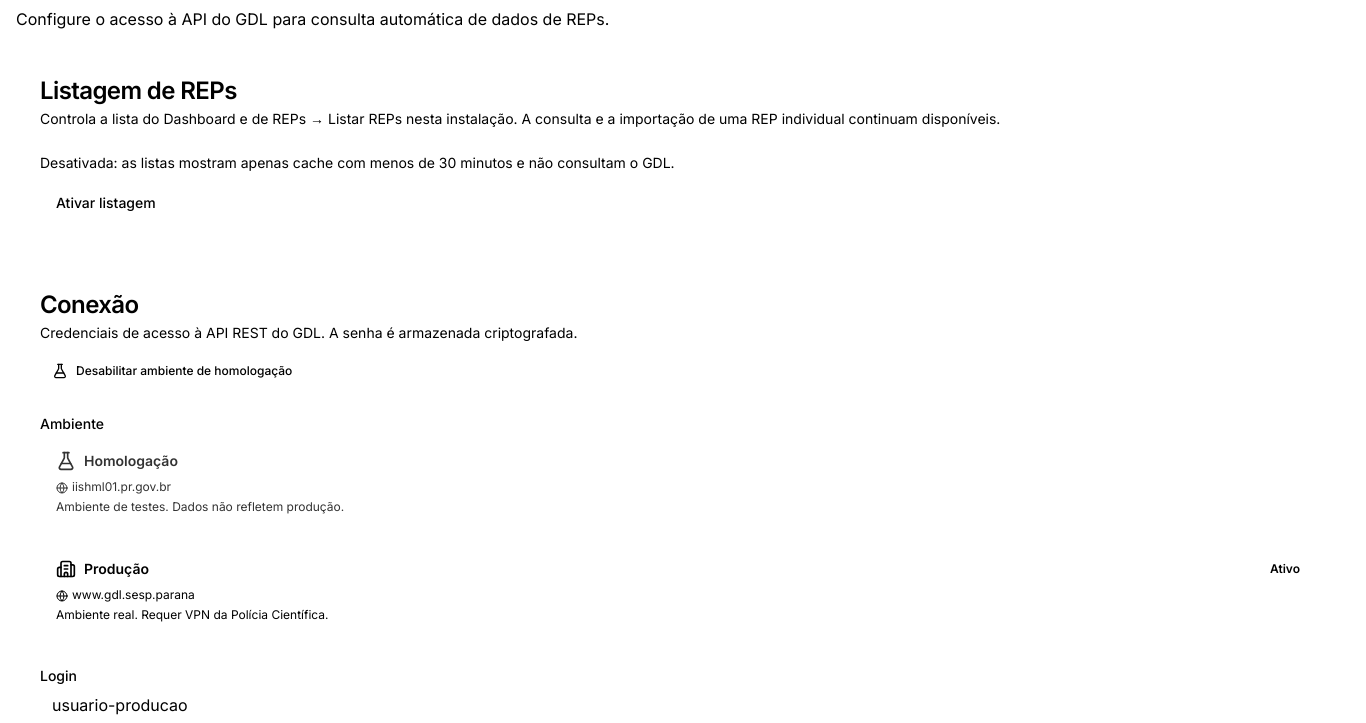
Scenario: GdlConfigPage › ignora credenciais e validação atrasadas do ambiente anterior
The image size is (1366, 723).
Expected: the field labelled "Login" holds "usuario-producao", x1=40 y1=687 x2=1326 y2=722
Step 1. Click the button that starts with "Homologação" → (131, 460), box x1=40 y1=435 x2=1326 y2=531
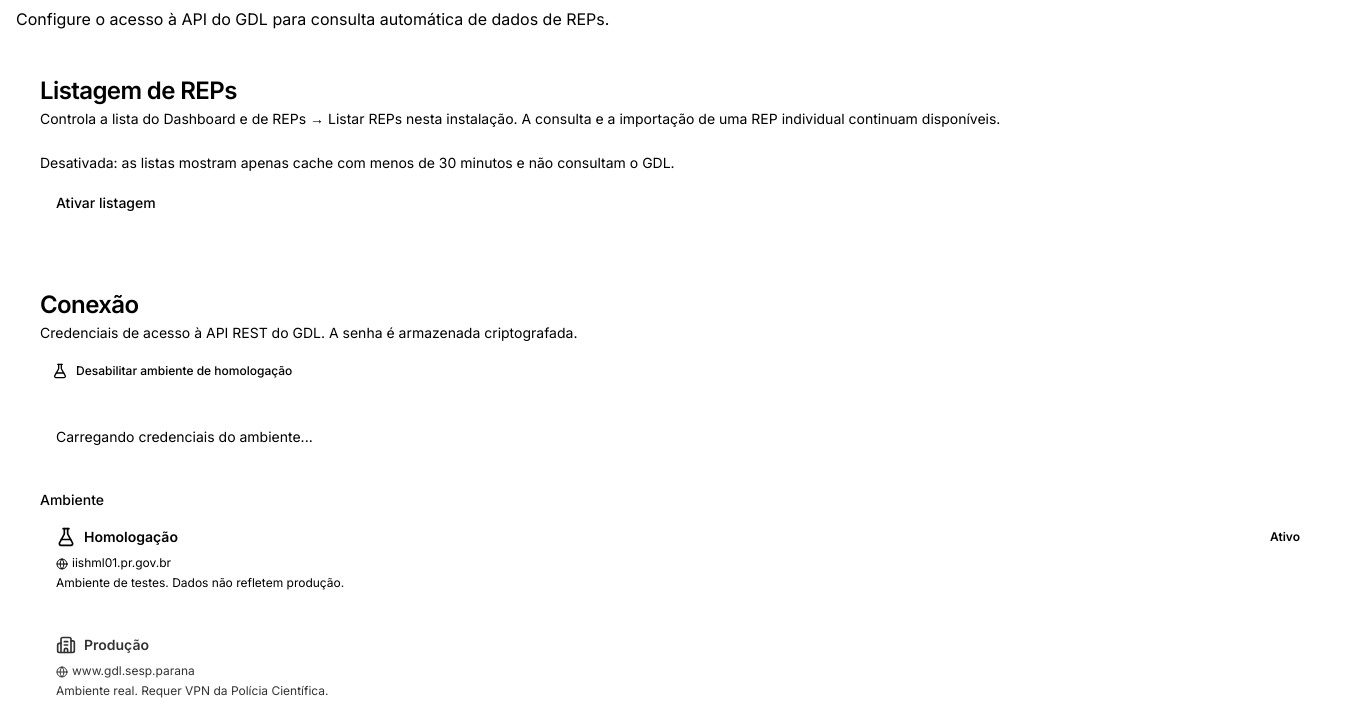
Step 2. Click the button that starts with "Produção" → (116, 644), box x1=40 y1=619 x2=1326 y2=715
(page scrolled)
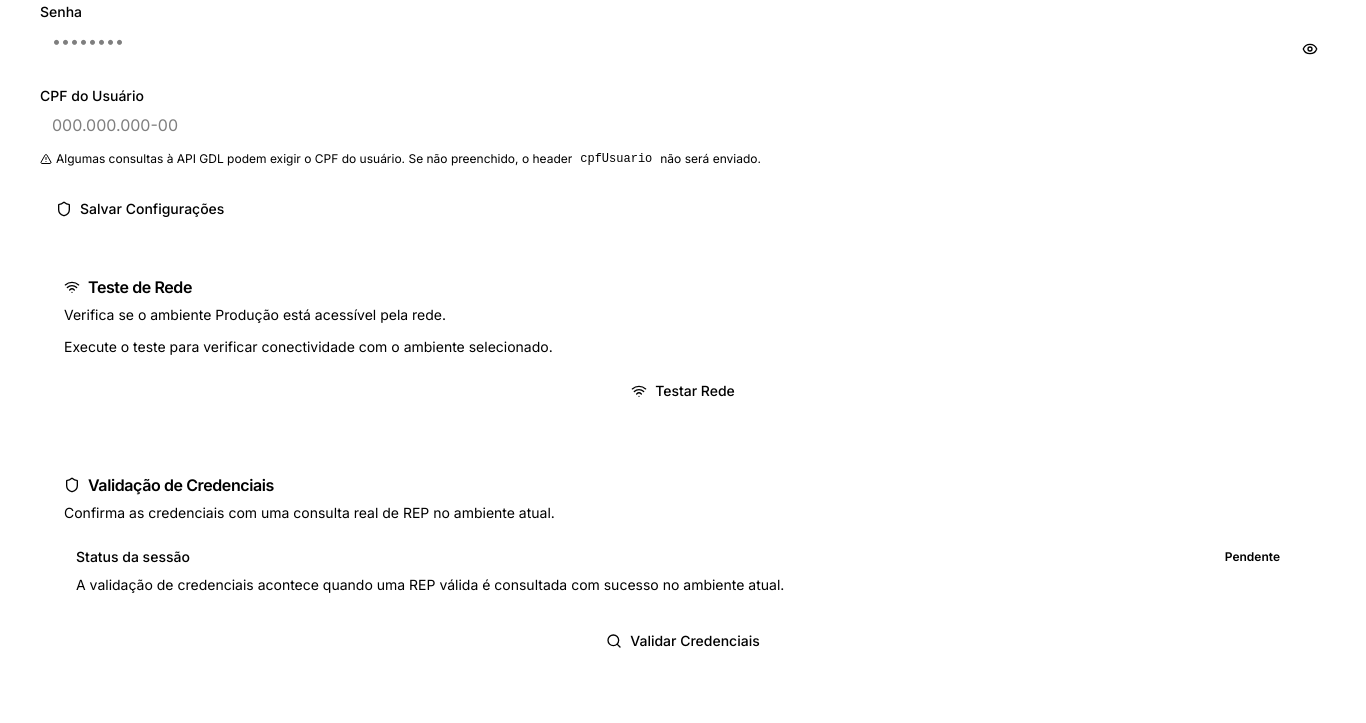
Now the text "Pendente" is shown, box x1=1225 y1=549 x2=1280 y2=564
